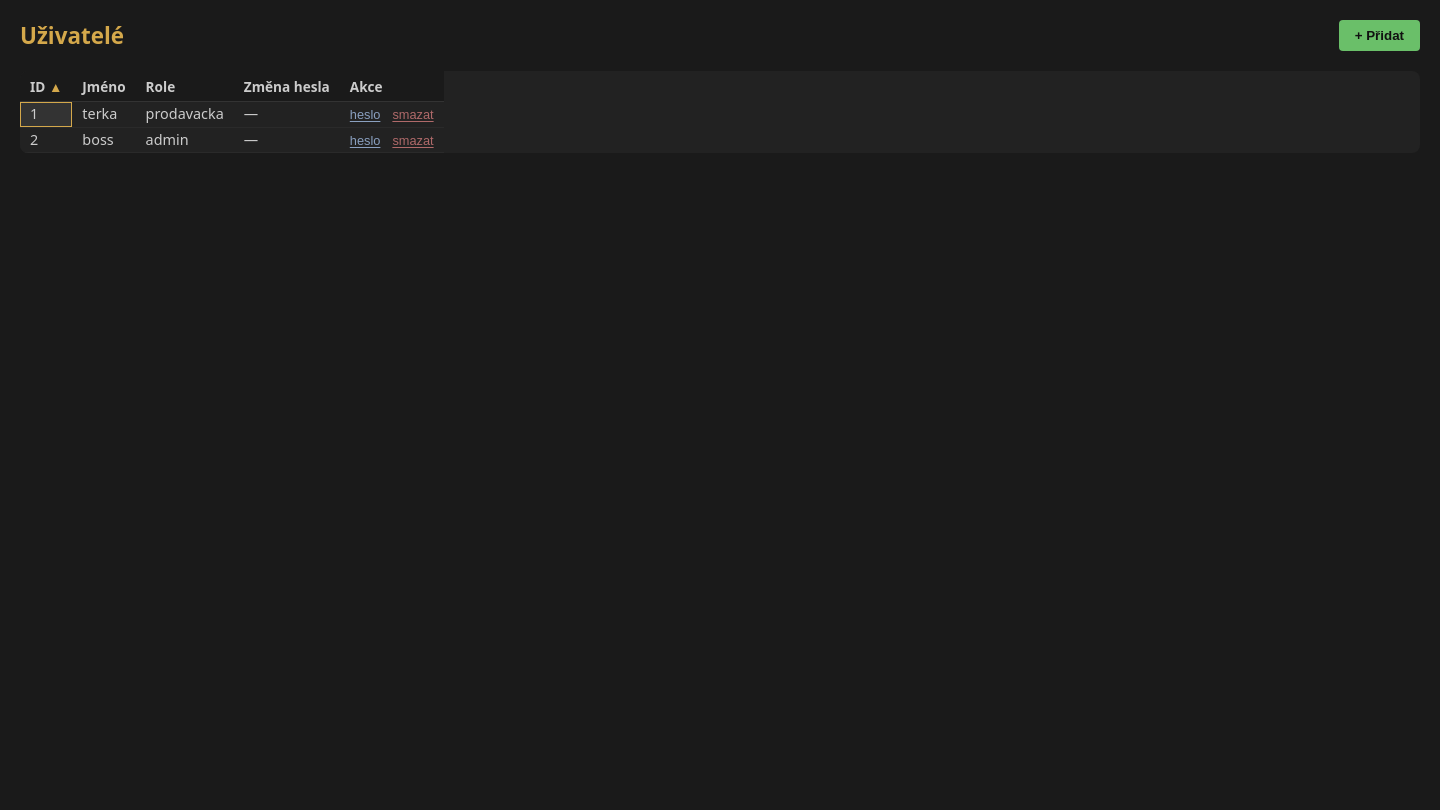
Scenario: Users › zavolá createUser a zobrazí nového uživatele po odeslání formuláře
The width and height of the screenshot is (1440, 810).
Expected: the text "terka" is shown, top-left (72, 102), bottom-right (136, 127)
Click the button "+ Přidat": click(1379, 36) top-left (1339, 20), bottom-right (1420, 51)
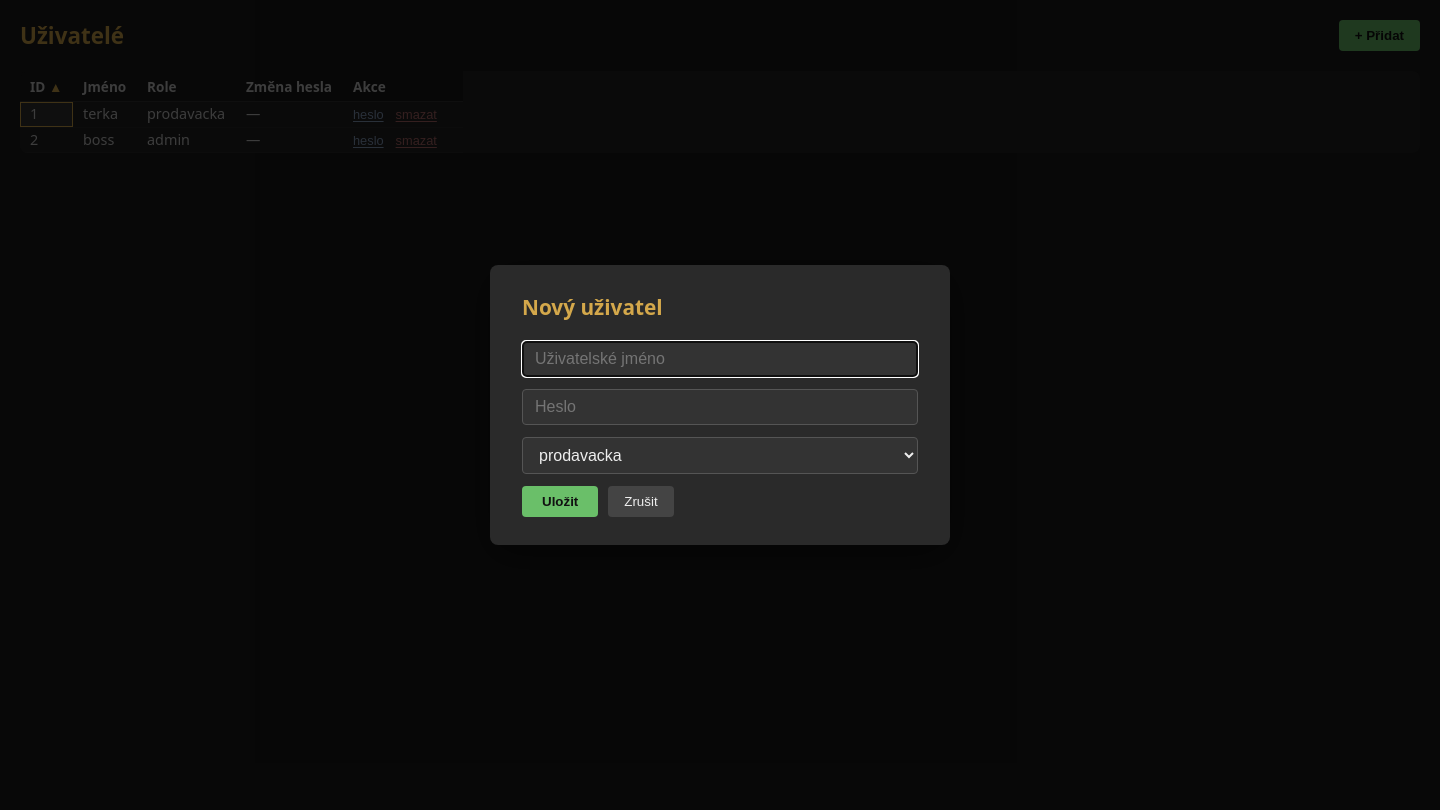
In the field with placeholder "Uživatelské jméno": (720, 359) top-left (522, 341), bottom-right (918, 377), type "nova"
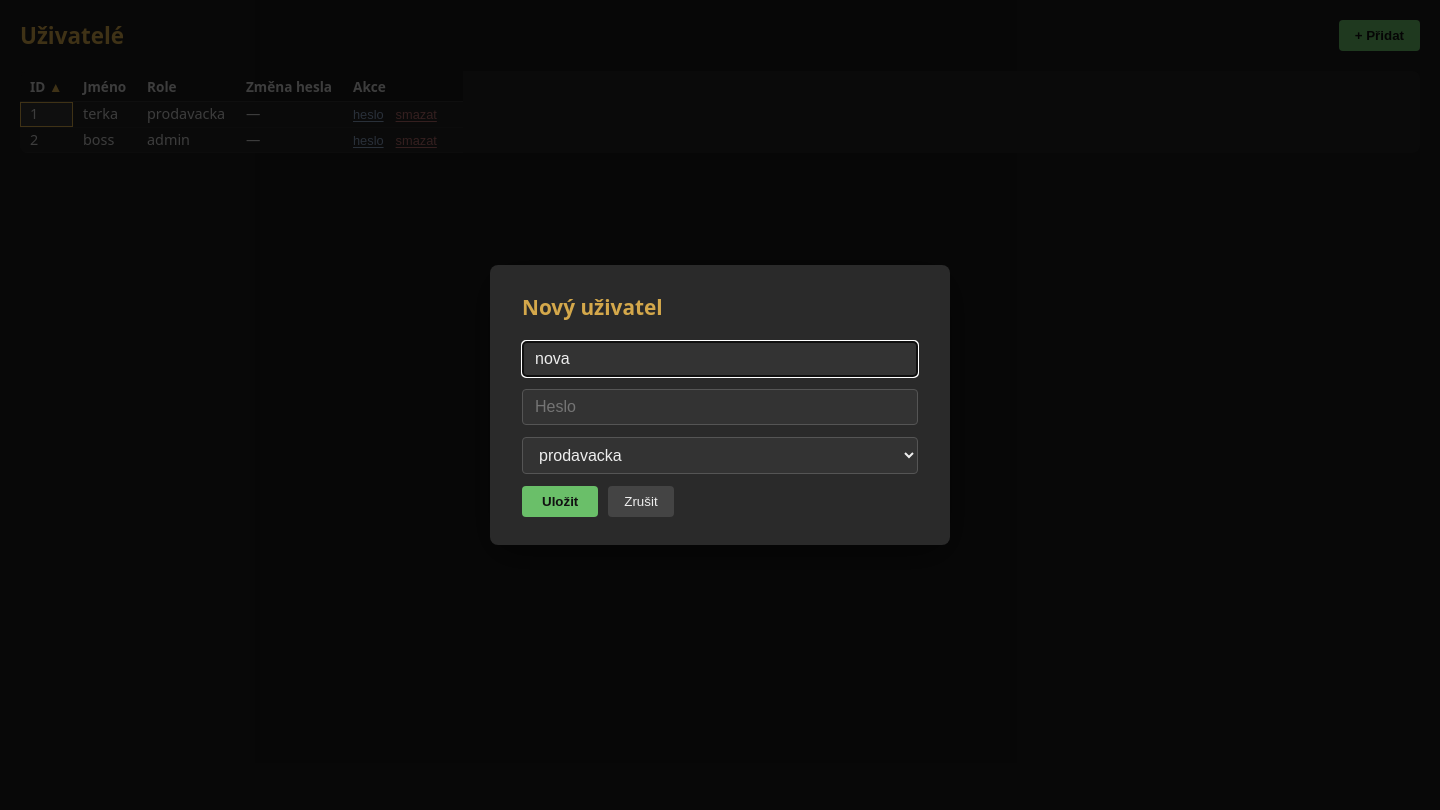
In the password field with placeholder "Heslo": (720, 407) top-left (522, 389), bottom-right (918, 425), type "heslo123"
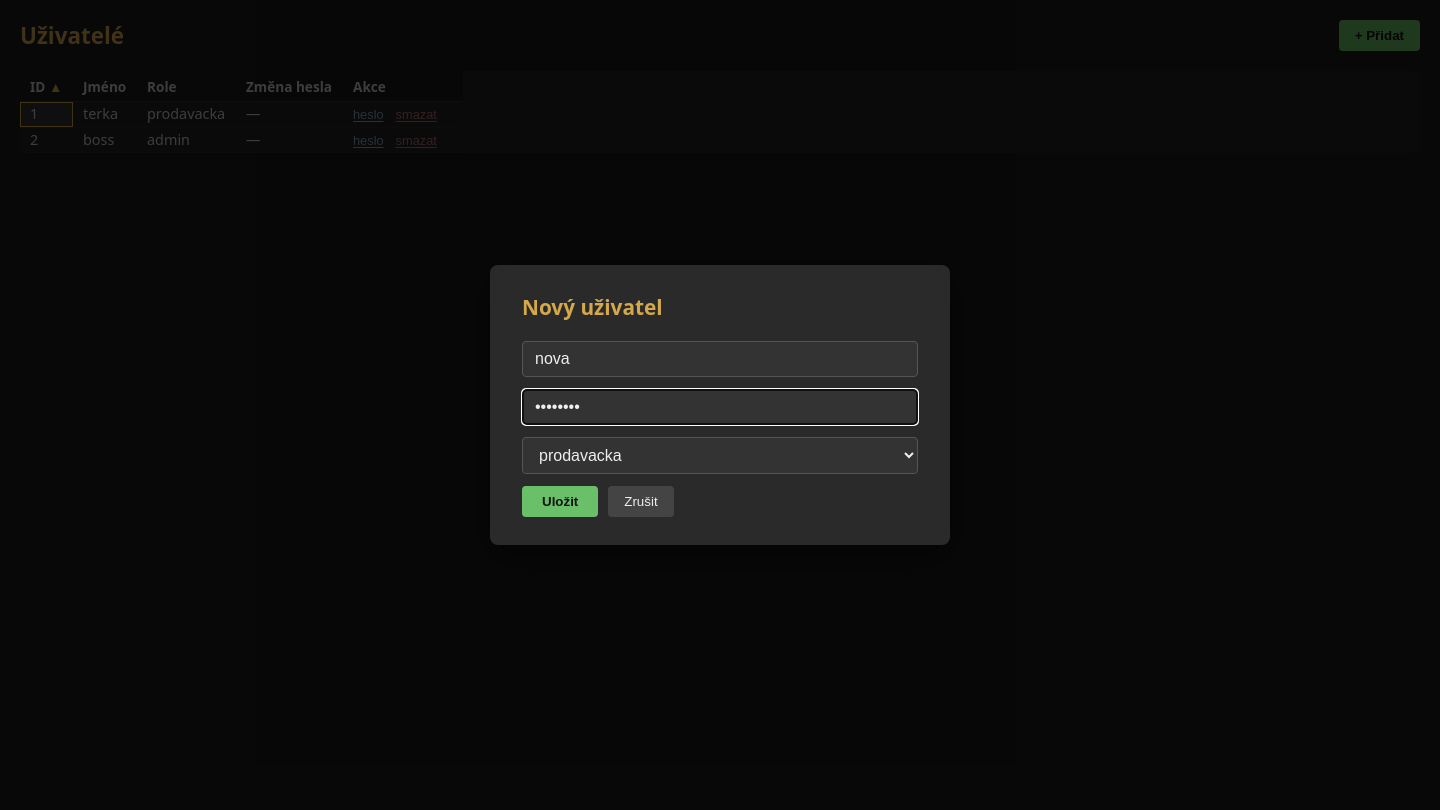
Click the button "Uložit": click(560, 502) top-left (522, 486), bottom-right (598, 517)
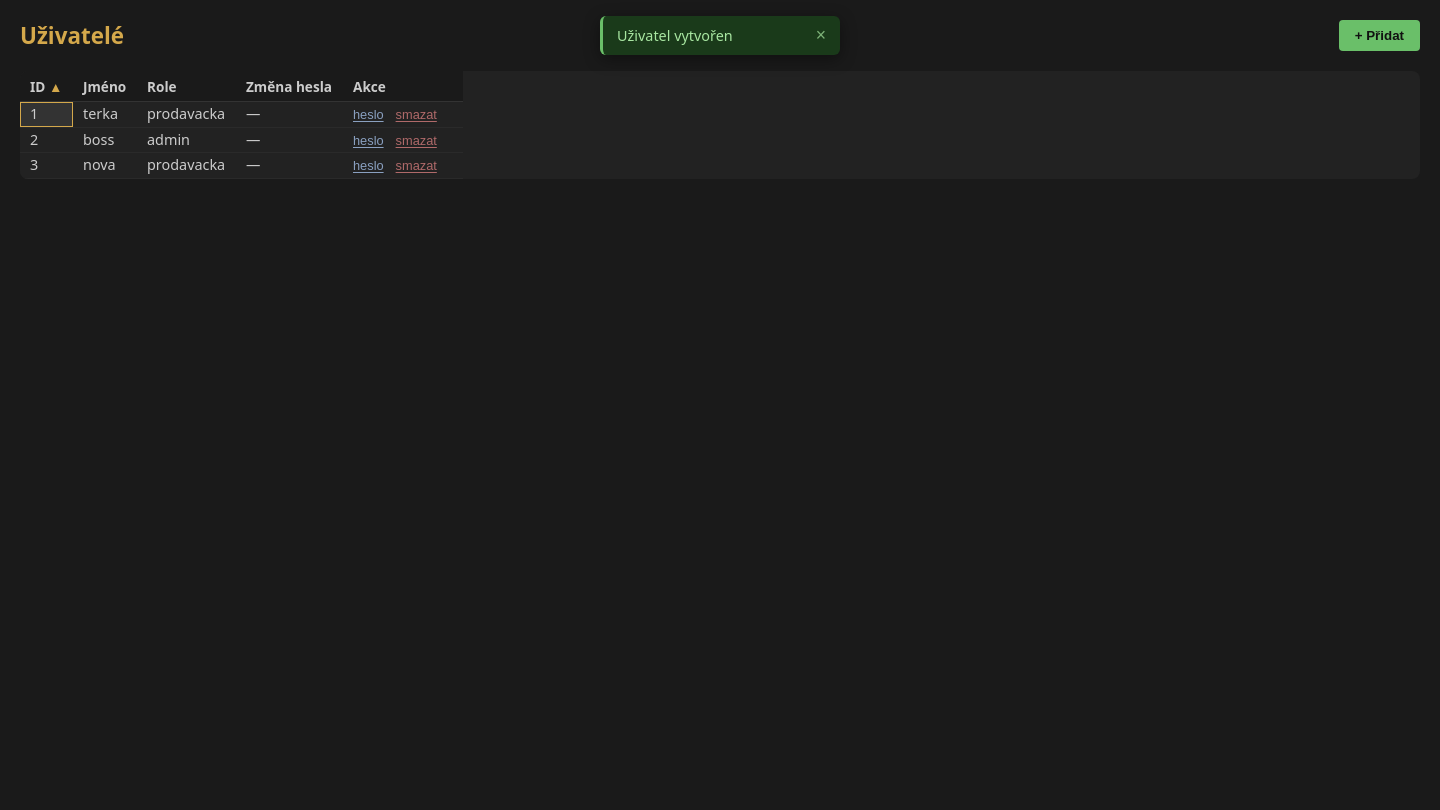
Now the text "nova" is shown, box top-left (73, 153), bottom-right (137, 179)
